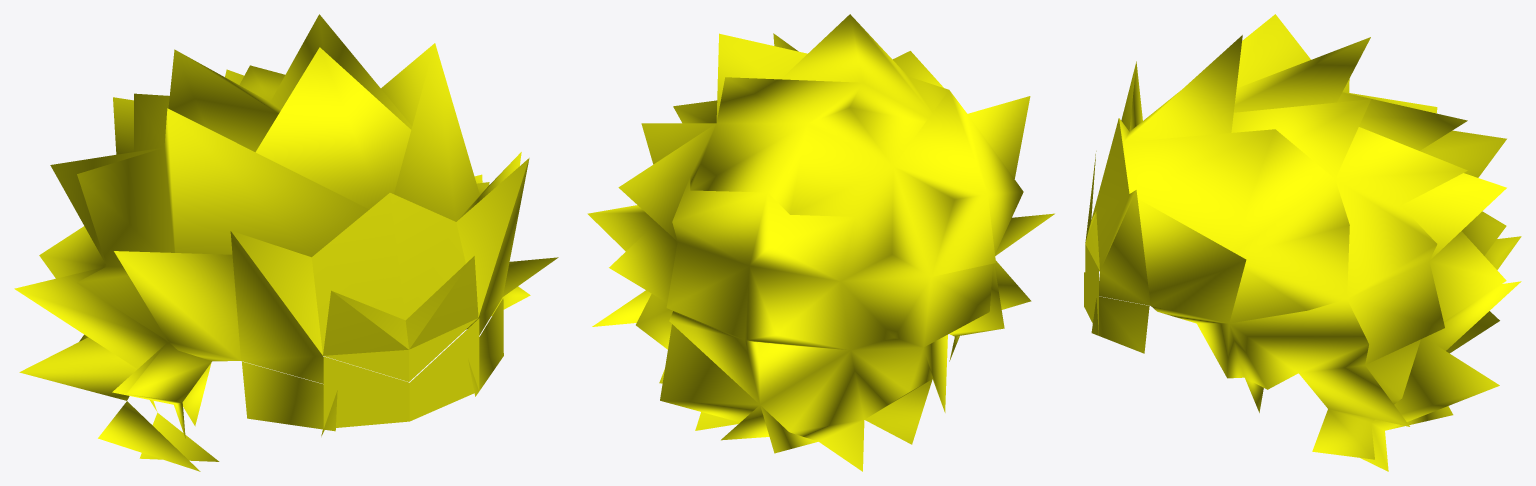
The model's file is hair_kuklo.glb.
The picture shows the model from 3 angles, left to right: view 1: azimuth 30°, elevation 25°; view 2: azimuth 150°, elevation 25°; view 3: azimuth 270°, elevation 25°; orthographic projection. The views are drawn at different scales.
Parts seen in each view (by area): view 1: hair_kuklo; view 2: hair_kuklo; view 3: hair_kuklo.
Boxes of the visible parts, box(x1,y1,x2,y2) form: hair_kuklo: box(14, 14, 558, 471); hair_kuklo: box(587, 14, 1054, 471); hair_kuklo: box(1084, 14, 1521, 471).
Size of the model in its own units: 0.7852 by 0.7185 by 0.721.
Materials: 1 (1 with a texture image).
